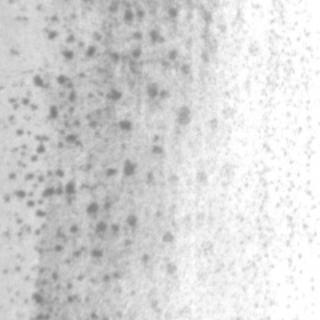pitted_surface: (8, 0, 204, 308), (254, 2, 312, 260)
